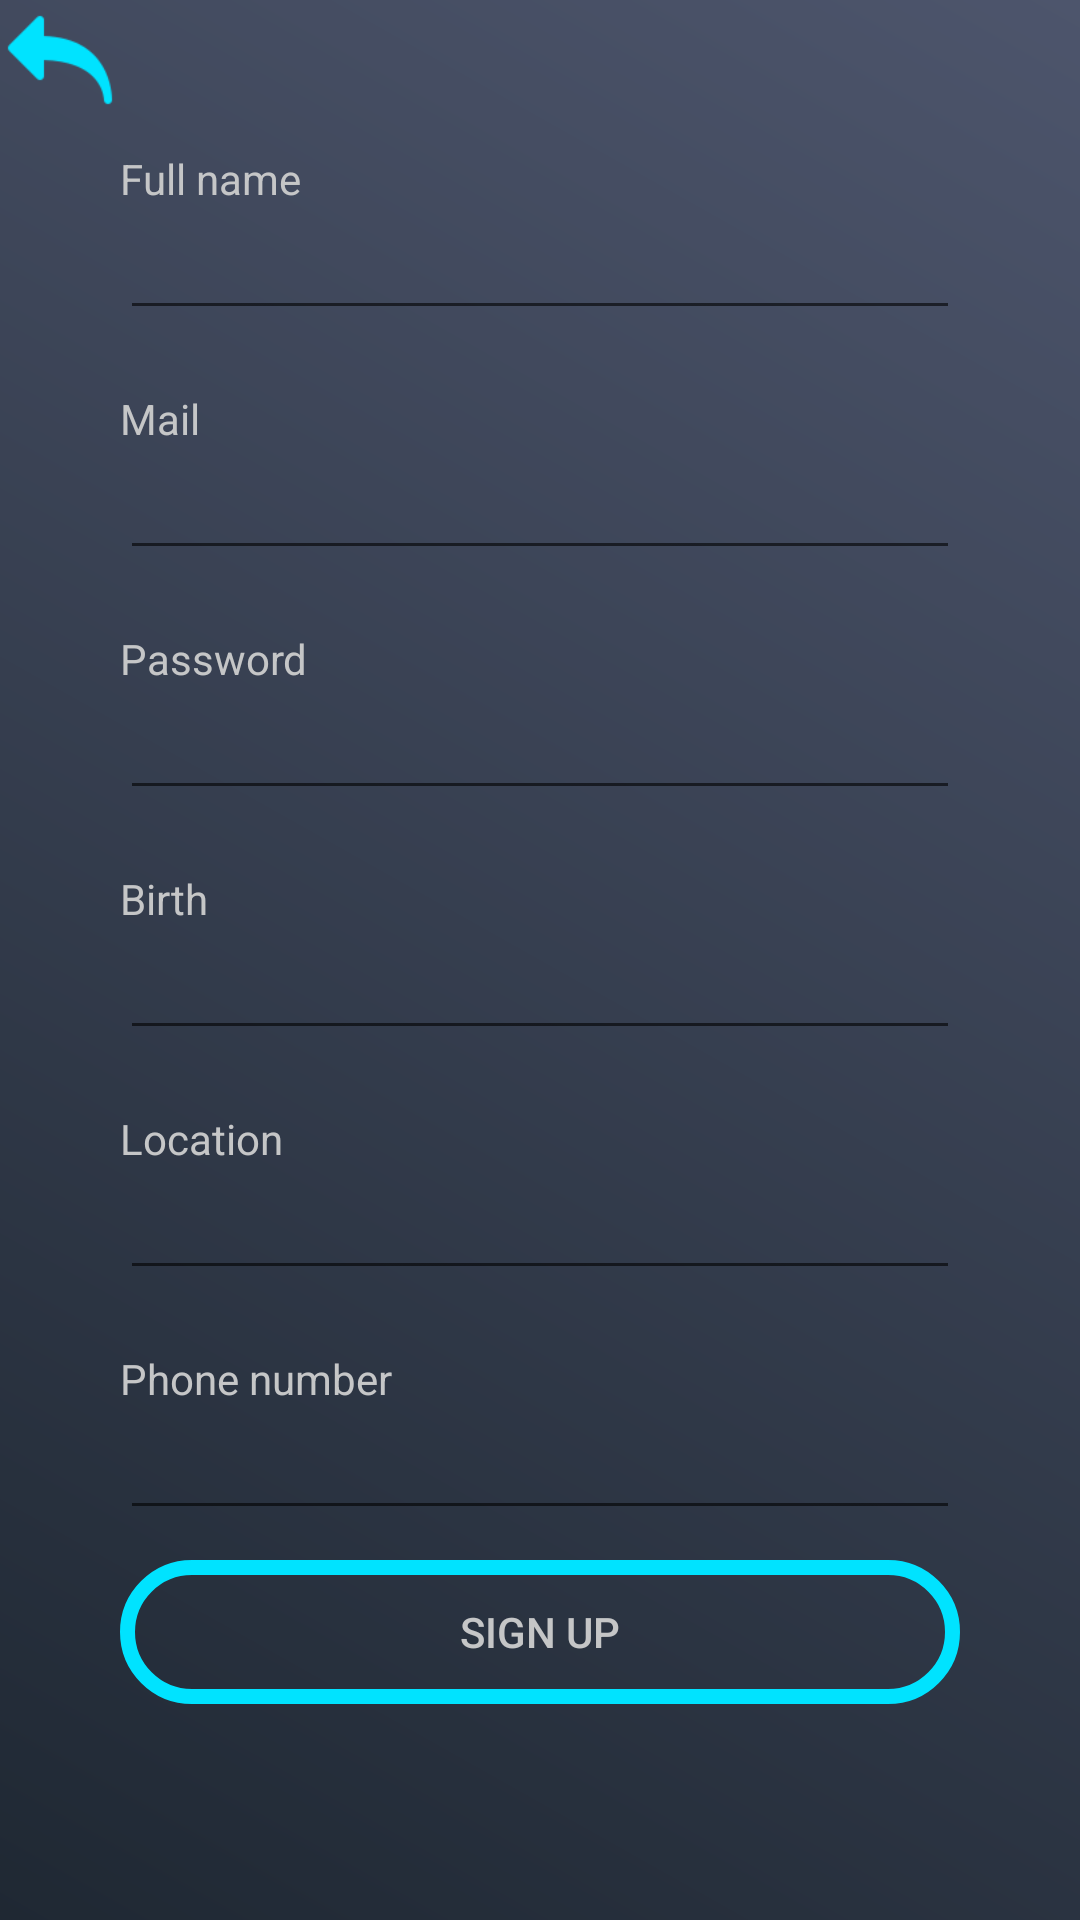

Screen size 1080x1920. Icon name, then its center in pixels as [x,y]:
back: [60,60]
